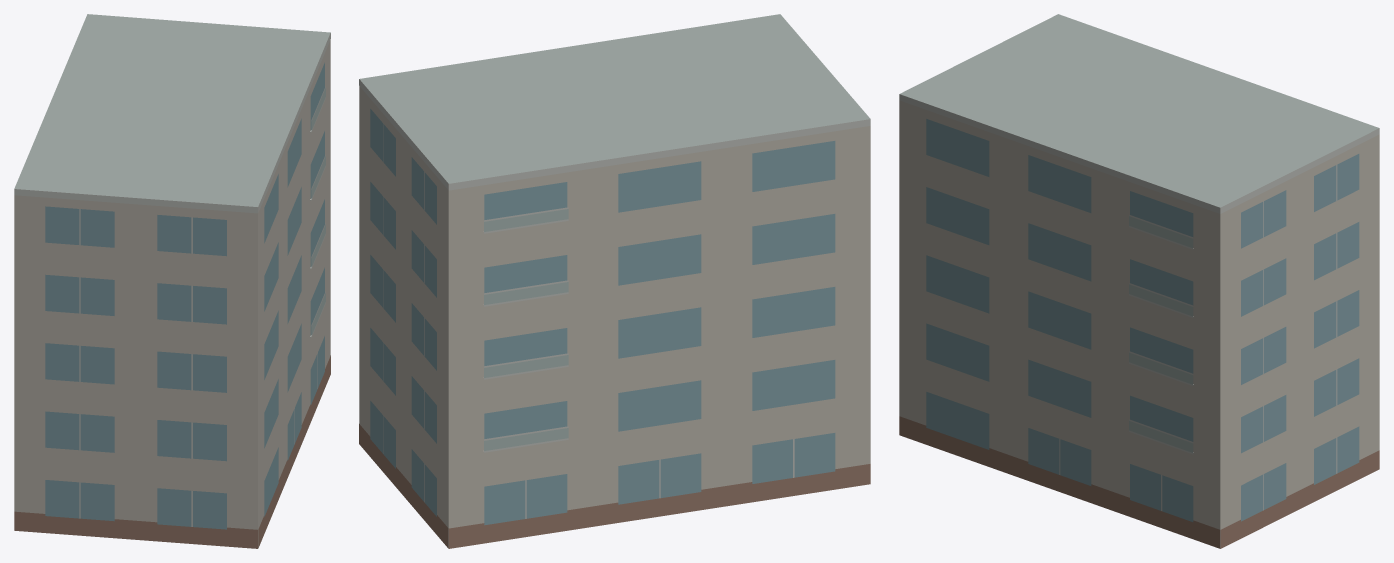
Rendered from survey-upis-33022353.glb.
3 views of the same model, side by side, from view 1: azimuth 30°, elevation 25°; view 2: azimuth 150°, elevation 25°; view 3: azimuth 270°, elevation 25° (orthographic). The views are drawn at different scales.
Parts seen in each view (by area): view 1: survey-upis-33022353.tmp; view 2: survey-upis-33022353.tmp; view 3: survey-upis-33022353.tmp.
Boxes of the visible parts, <box> form: survey-upis-33022353.tmp: <box>14,14,330,548</box>; survey-upis-33022353.tmp: <box>359,14,870,548</box>; survey-upis-33022353.tmp: <box>899,14,1379,548</box>.
Size of the model in its own units: 16.09 by 13.2 by 16.85.
